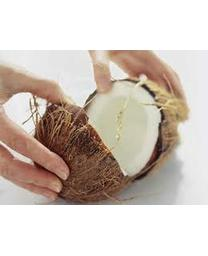coconut: (31, 77, 180, 201)
